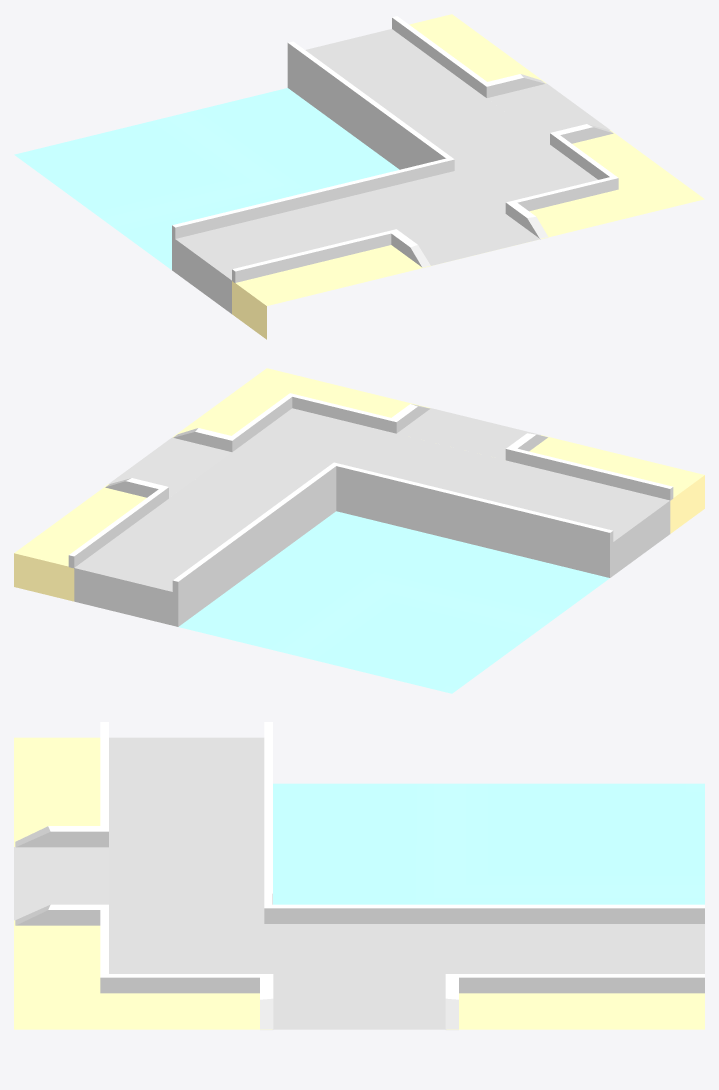
Rendered from port_tile_2x2_2.glb.
3 views of the same model, one above another, from view 1: azimuth 30°, elevation 25°; view 2: azimuth 150°, elevation 25°; view 3: azimuth 270°, elevation 25° (orthographic). The views are drawn at different scales.
Visible parts, largest first — view 1: port_tile_2x2_2(Clone); view 2: port_tile_2x2_2(Clone); view 3: port_tile_2x2_2(Clone).
Part boxes in pixels (x1,y1,x2,y2): port_tile_2x2_2(Clone): [14, 14, 704, 339]; port_tile_2x2_2(Clone): [14, 368, 704, 693]; port_tile_2x2_2(Clone): [14, 722, 704, 1030].
Size of the model in its own units: 16 by 1.58 by 16.
1 material, 1 textured.
